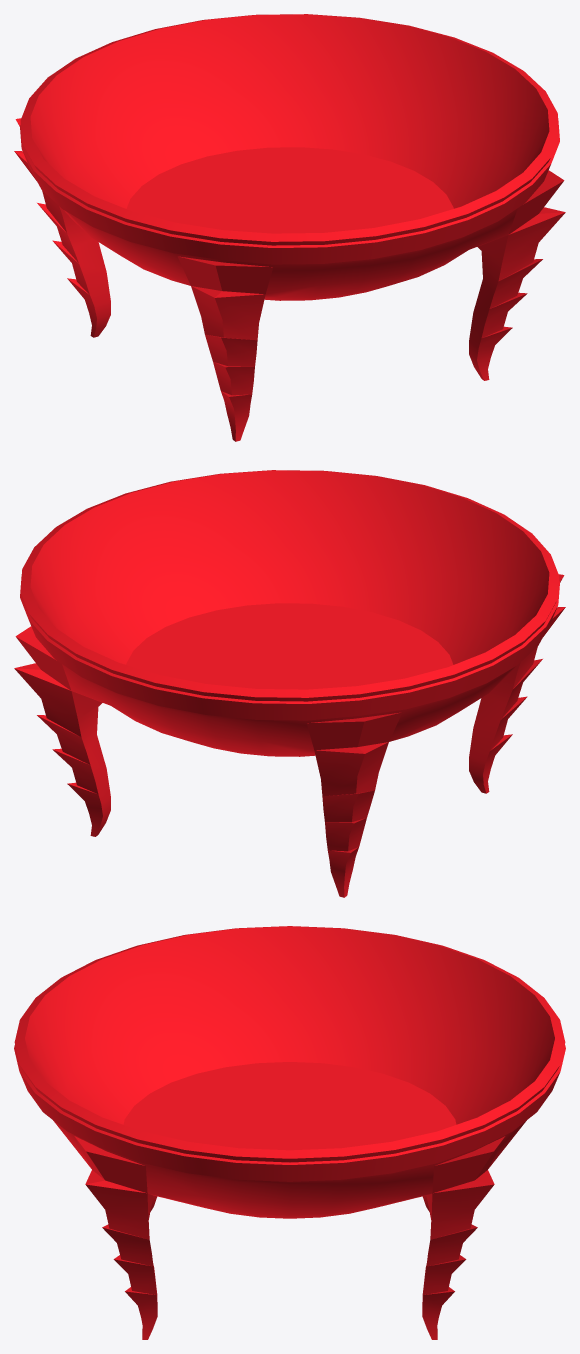
File: dfk_brazier_02.fbx
3 views of the same model, one above another, from view 1: azimuth 30°, elevation 25°; view 2: azimuth 150°, elevation 25°; view 3: azimuth 270°, elevation 25° (orthographic).
Parts seen in each view (by area): view 1: Brazier2; view 2: Brazier2; view 3: Brazier2.
Boxes of the visible parts, x1=… form: Brazier2: x1=14, y1=14, x2=565, y2=441; Brazier2: x1=14, y1=470, x2=565, y2=897; Brazier2: x1=14, y1=926, x2=565, y2=1339.
Size of the model in its own units: 0.983 by 0.4686 by 0.983.
